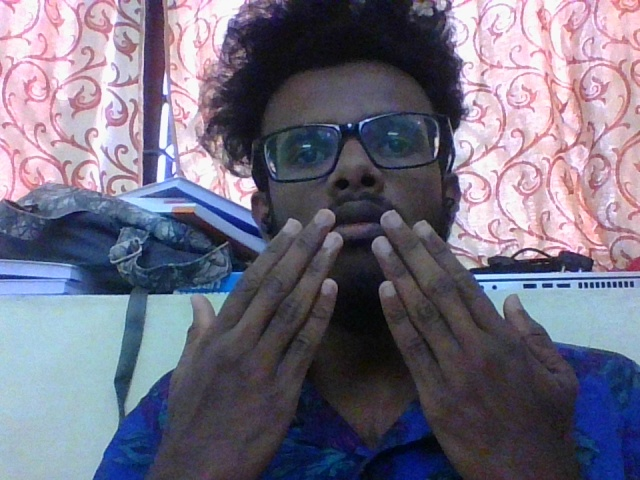thank: (155, 204, 601, 470)
